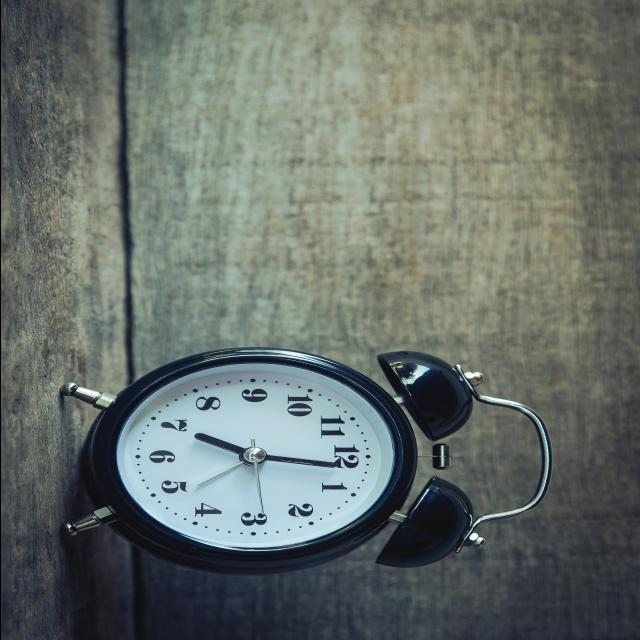clock: (43, 214, 568, 640)
